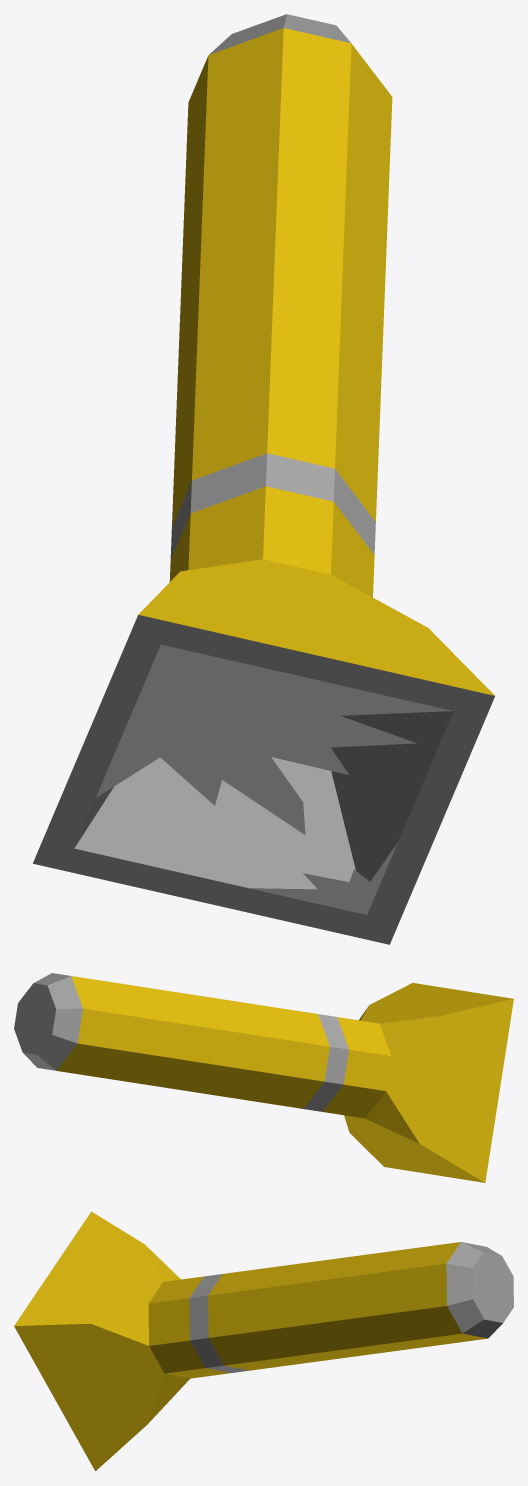
File: ObjetoLinternaPotenciada.fbx
3 views of the same model, one above another, from view 1: azimuth 30°, elevation 25°; view 2: azimuth 150°, elevation 25°; view 3: azimuth 270°, elevation 25° (orthographic). The views are drawn at different scales.
Parts seen in each view (by area): view 1: Linterna; view 2: Linterna; view 3: Linterna.
Boxes of the visible parts, left/top/right/bottom form: Linterna: left=33, top=14, right=494, bottom=944; Linterna: left=14, top=973, right=513, bottom=1182; Linterna: left=14, top=1211, right=513, bottom=1470.
Bounding box in the file's own units: 70.16 × 61.95 × 95.83.
